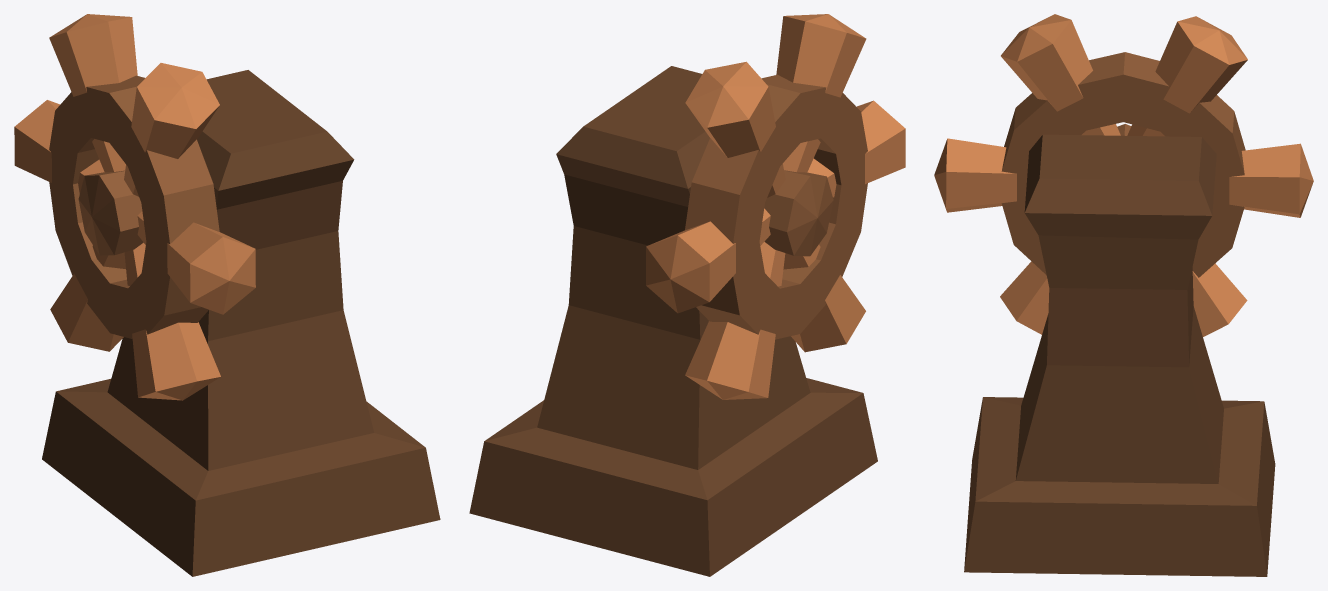
The model's file is boat_wheel.fbx.
3 views of the same model, side by side, from view 1: azimuth 30°, elevation 25°; view 2: azimuth 150°, elevation 25°; view 3: azimuth 270°, elevation 25° (orthographic). The views are drawn at different scales.
Parts seen in each view (by area): view 1: boat_wheel_base, boat_wheel001; view 2: boat_wheel_base, boat_wheel001; view 3: boat_wheel_base, boat_wheel001.
Part boxes in pixels (x1=…): boat_wheel_base: x1=42, y1=70, x2=440, y2=576; boat_wheel001: x1=14, y1=14, x2=255, y2=400; boat_wheel_base: x1=469, y1=66, x2=877, y2=576; boat_wheel001: x1=646, y1=14, x2=905, y2=399; boat_wheel_base: x1=964, y1=134, x2=1275, y2=576; boat_wheel001: x1=934, y1=14, x2=1313, y2=336.
Size of the model in its own units: 91.15 by 151 by 115.
Materials: 1 (1 with a texture image).
